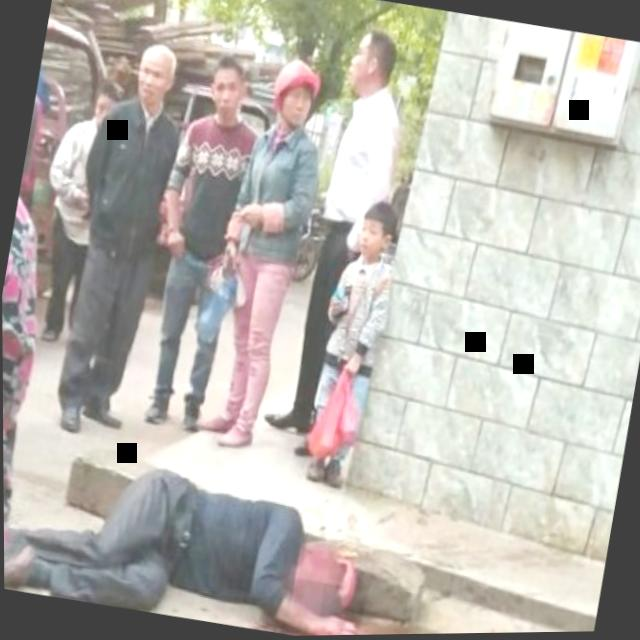Fall-Detected: (2, 419, 438, 640)
